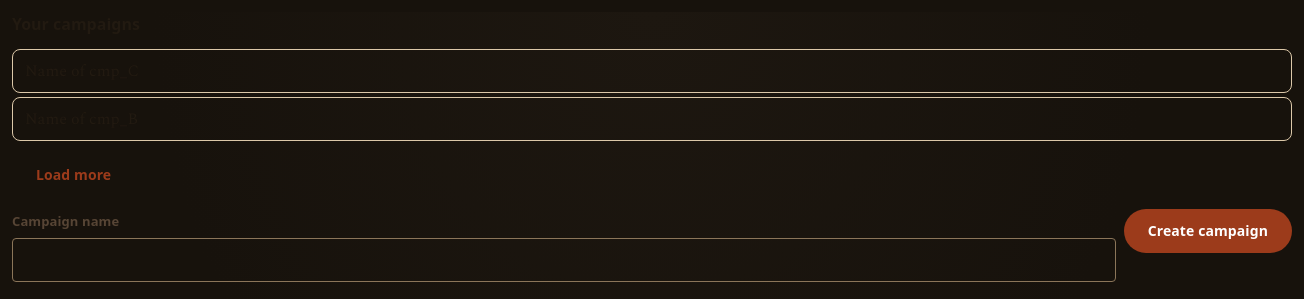
Test: the picker states (§12.2, T2-8, T2-9) › Load more appends in server order without reordering what is shown
The image size is (1304, 299).
Click the button "Load more": (74, 175) [12, 153, 135, 197]
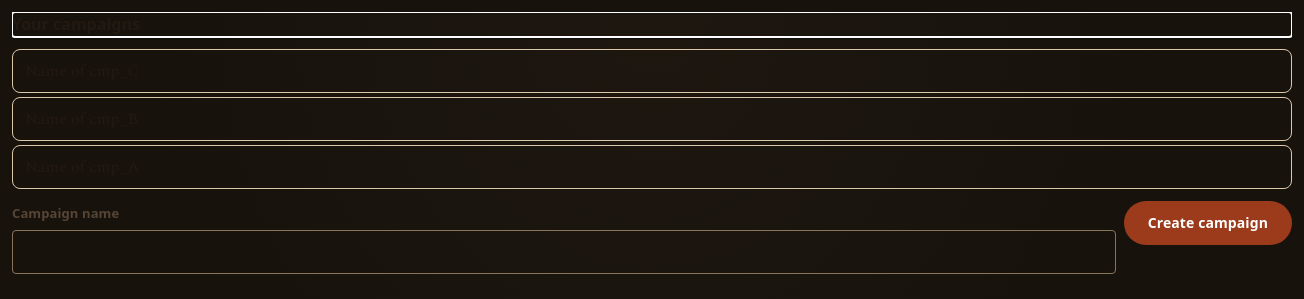
Expected: the button "Load more" is gone
